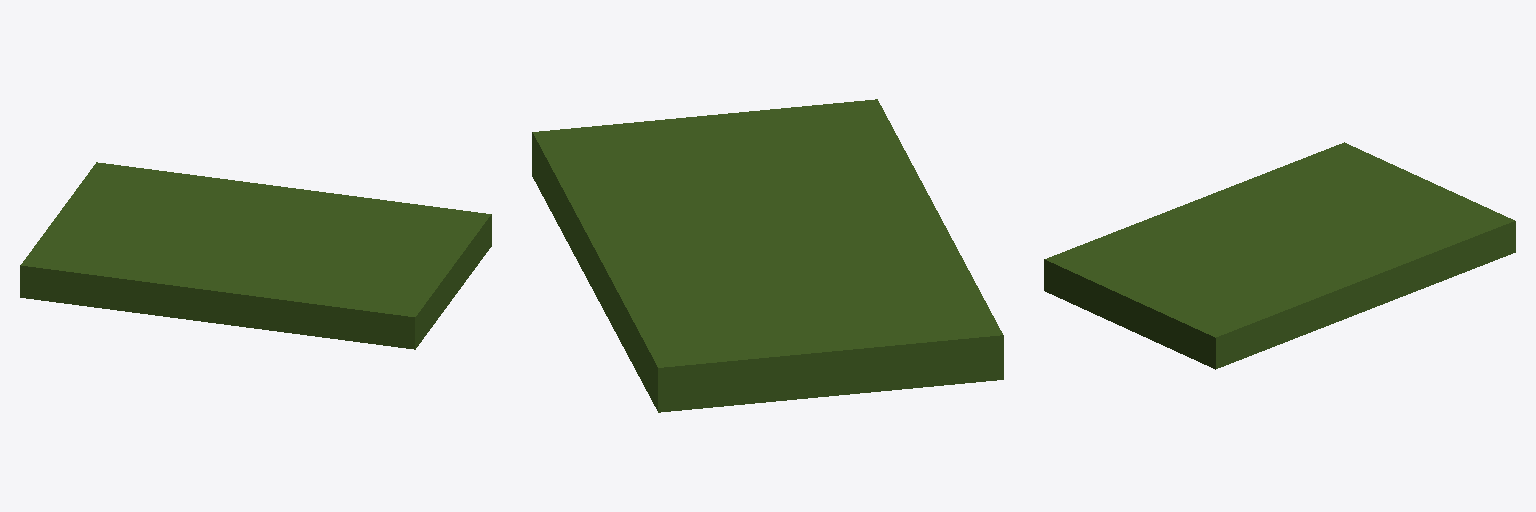
The robot description file, URDF, robot "Interference":
<?xml version="1.0"?>
<robot name="Interference">
  <link name="baseLink">
    <inertial>
      <origin xyz="0.0 0.0 0.0" rpy="0.0 0.0 0.0"/>
      <inertia ixx="0.0" ixy="0.0" ixz="0.0" iyy="0.0" iyz="0.0" izz="0.0"/>
      <mass value="0"/>
    </inertial>
    <visual>
      <origin xyz="0.0 0.0 0.0" rpy="0.0 0.0 -0.8255049370266462"/>
      <geometry>
        <box size="0.11610379705662614 0.07179914157234112 0.01"/>
      </geometry>
      <material name="color">
        <color rgba="0.30430232264054846 0.4181575174309422 0.1772773999516699 1.0"/>
      </material>
    </visual>
  </link>
</robot>

--- What the picture shows (computed from the rendered views, not written in the file) ---
The picture shows the robot from 3 angles, left to right: view 1: azimuth 30°, elevation 25°; view 2: azimuth 150°, elevation 25°; view 3: azimuth 270°, elevation 25°; orthographic projection.
Model Interference with 1 links and 0 joints (none), rooted at baseLink, posed every joint at zero.
Visible links, largest first — view 1: baseLink; view 2: baseLink; view 3: baseLink.
Link boxes in pixels (box(x1,y1,x2,y2)): baseLink: box(20, 162, 491, 349); baseLink: box(532, 99, 1003, 412); baseLink: box(1044, 142, 1515, 369).
Bounding box of the posed robot: 0.1315 × 0.134 × 0.01 m (x, y, z).
Geometry: primitives only (box / cylinder / sphere), no mesh files.